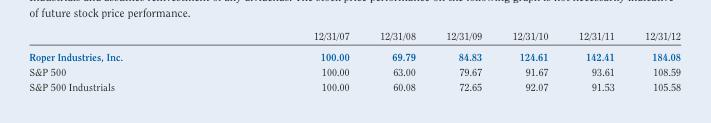table: (28, 29, 680, 92)
table column: (28, 29, 217, 92), (217, 29, 363, 92), (363, 29, 430, 92), (562, 29, 629, 92), (430, 29, 496, 92), (496, 29, 562, 92), (629, 29, 680, 92)
table column header: (28, 29, 680, 45)
table row: (28, 45, 680, 63), (28, 29, 680, 45), (28, 63, 680, 78), (28, 78, 680, 92)
